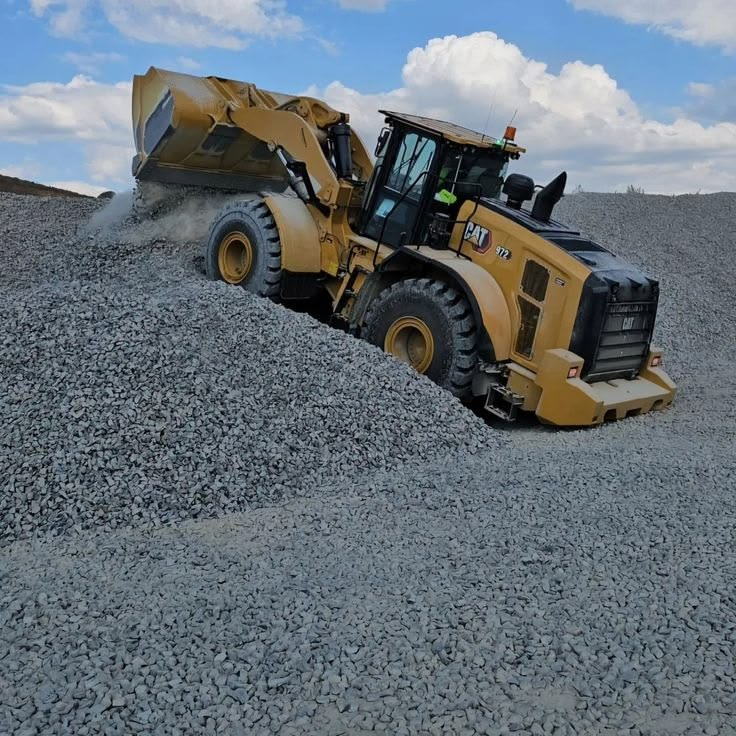machinery: (112, 27, 691, 474)
